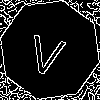V: (25, 25, 69, 77)
